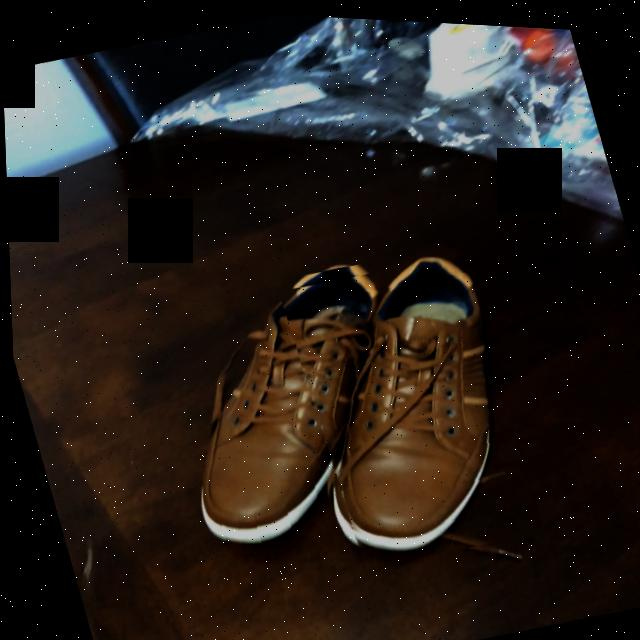shoe: (196, 261, 374, 546), (339, 254, 487, 551)
